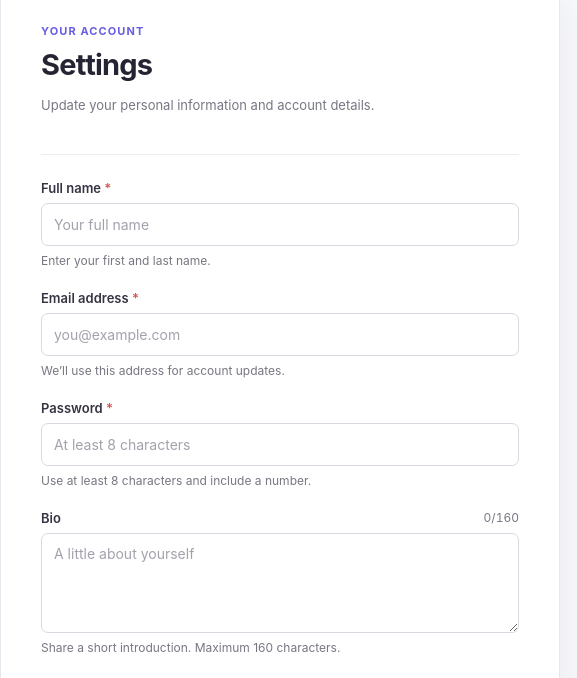
Test case: SettingsForm › shows the saved message on valid submit and trims values
Type "Jordan Lee" into the field labelled "Full name *".
click(280, 224); type("Jordan Lee")  # box [41,203,519,246]
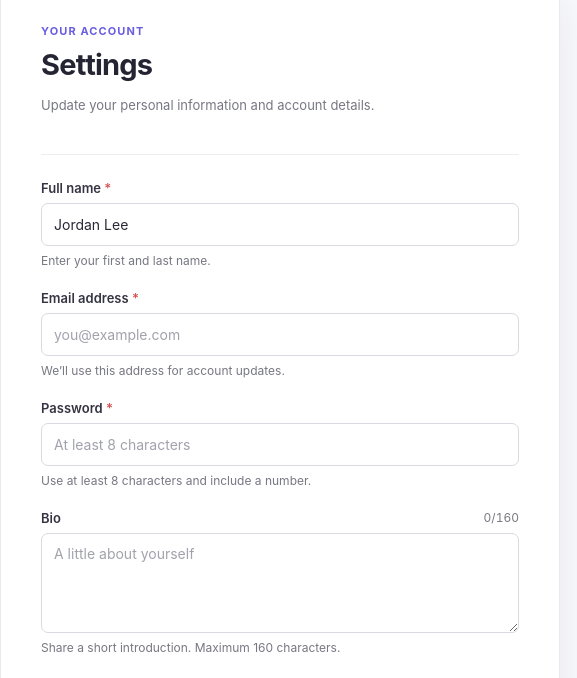
Type "jordan@example.com" into the field labelled "Email address *".
click(280, 334); type("jordan@example.com")  # box [41,313,519,356]
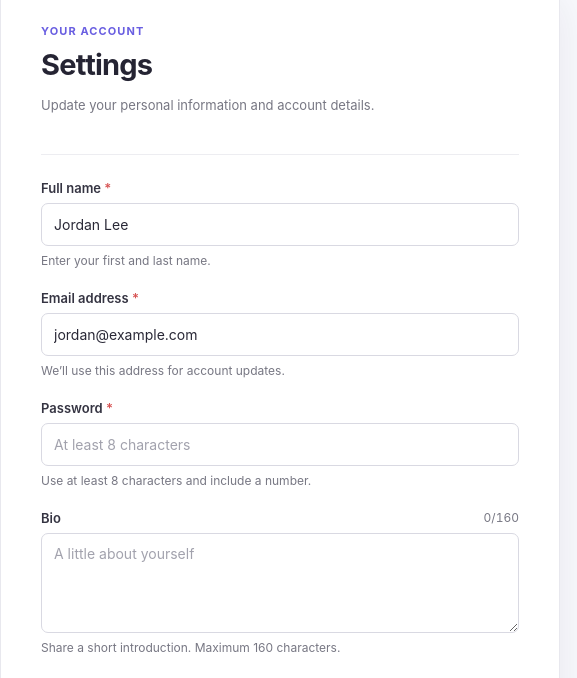
Type "secure123" into the password field labelled "Password *".
click(280, 444); type("secure123")  # box [41,423,519,466]
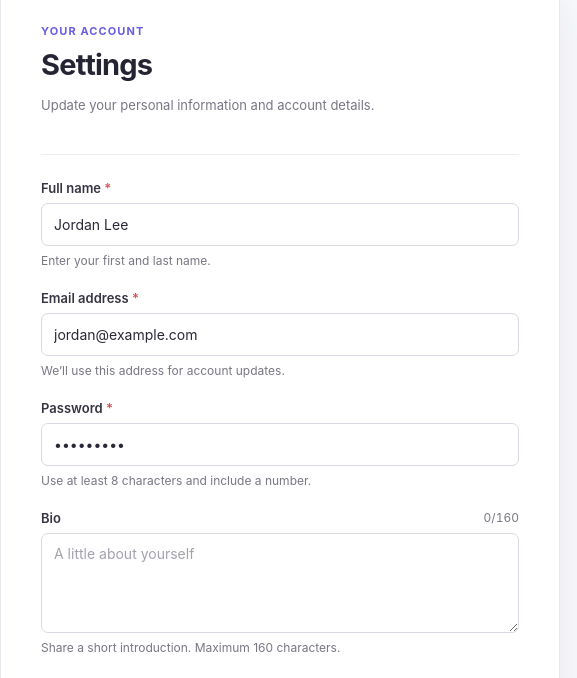
Type "  Hello there  " into the text box labelled "Bio".
click(280, 583); type("  Hello there  ")  # box [41,533,519,633]
(page scrolled)
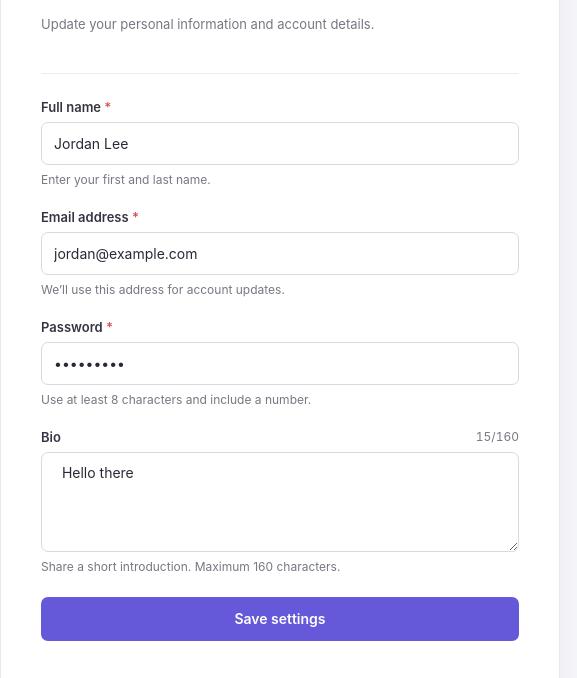
Click the button "Save settings".
click(280, 619)  # box [41,597,519,641]
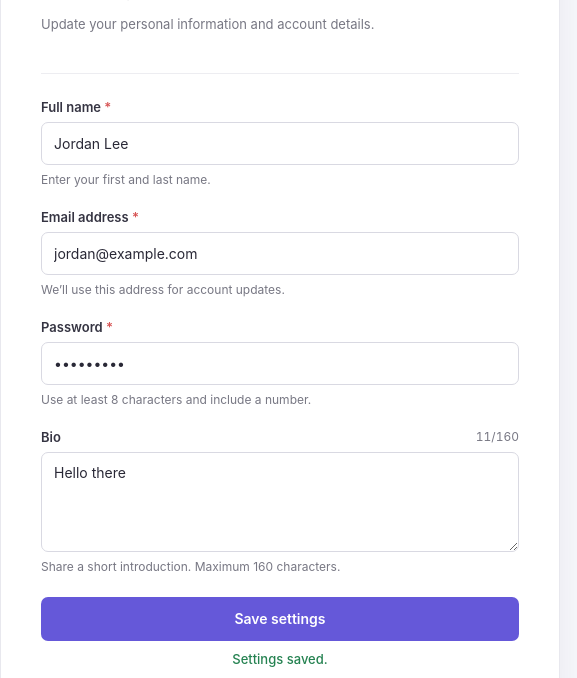
expect the message reads "Settings saved.": met, box [232,651,328,667]
